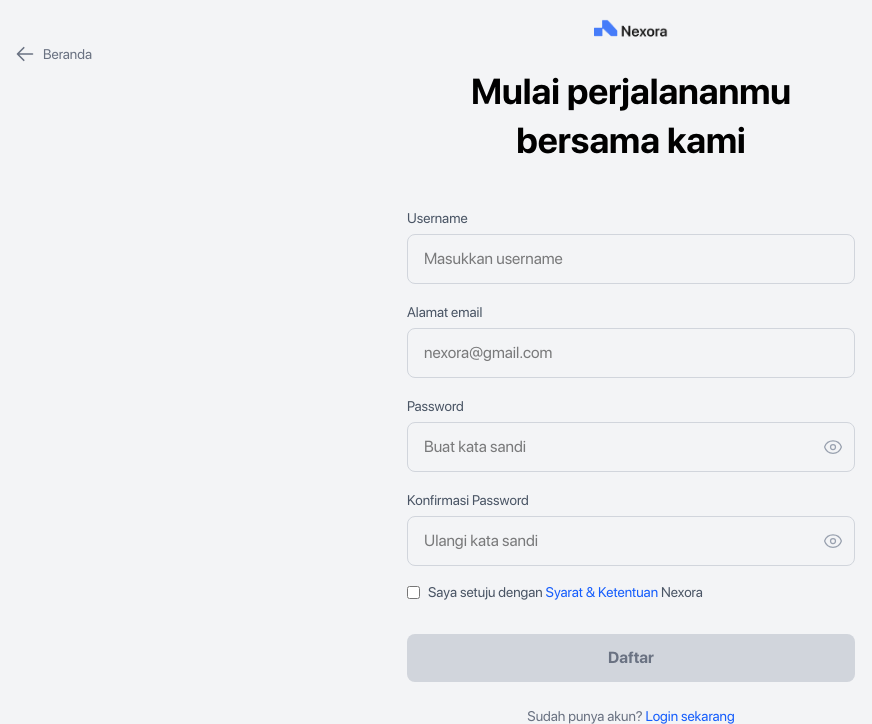
Test case: Register Component Error Handling › should display specific field error message from backend below the input
Isi data minimal agar bisa submit
Step 1. Type "user1" into the field with placeholder "Masukkan username" → x=631, y=258, box top-left (407, 234), bottom-right (855, 284)
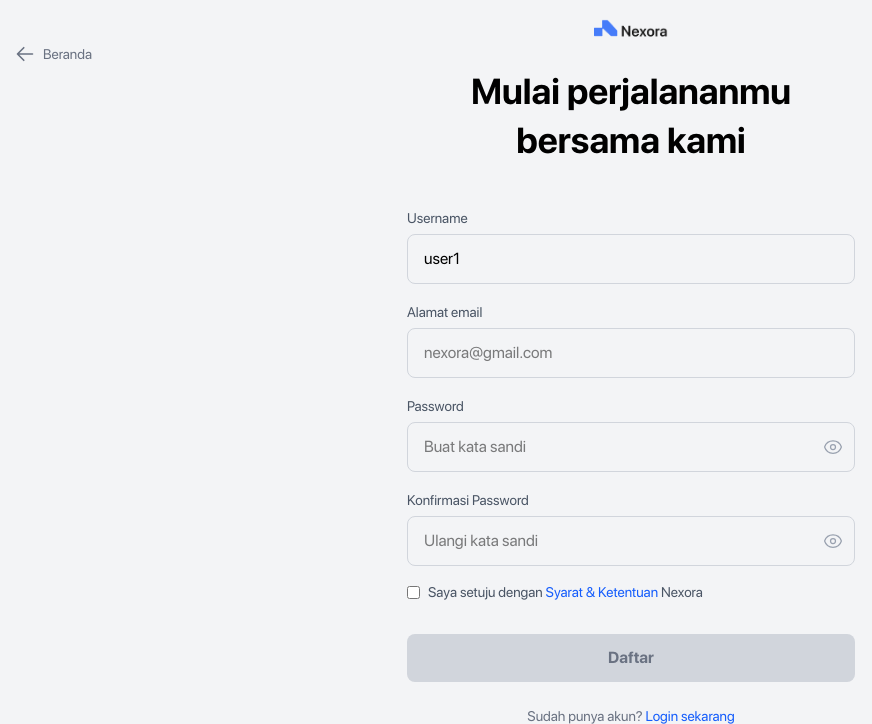
Step 2. Type "test@gmail.com" into the field with placeholder "nexora@gmail.com" → x=631, y=352, box top-left (407, 328), bottom-right (855, 378)
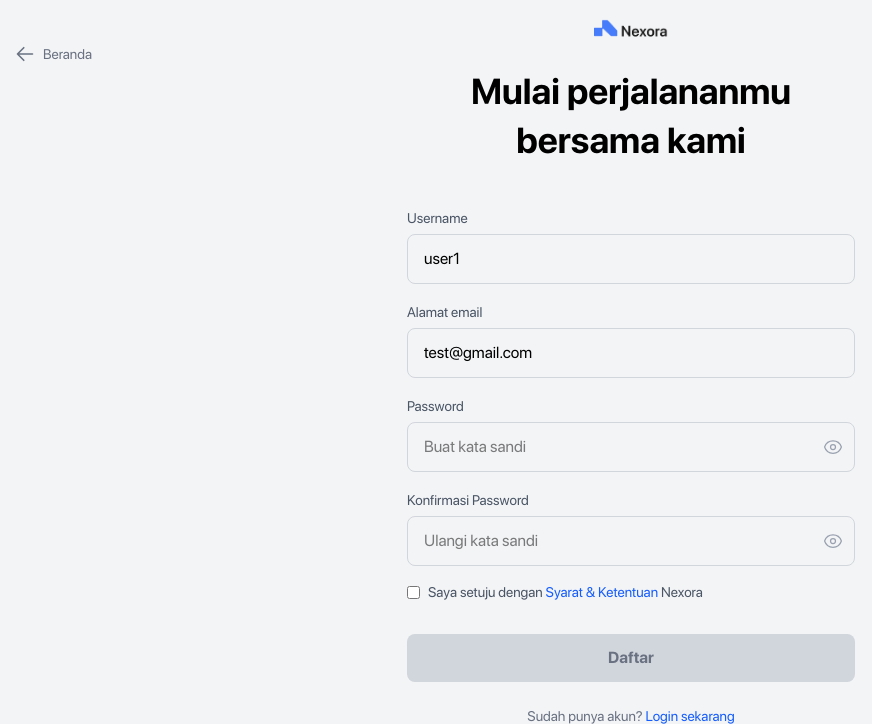
Step 3. Type "password123" into the password field with placeholder "Buat kata sandi" → x=631, y=446, box top-left (407, 422), bottom-right (855, 472)
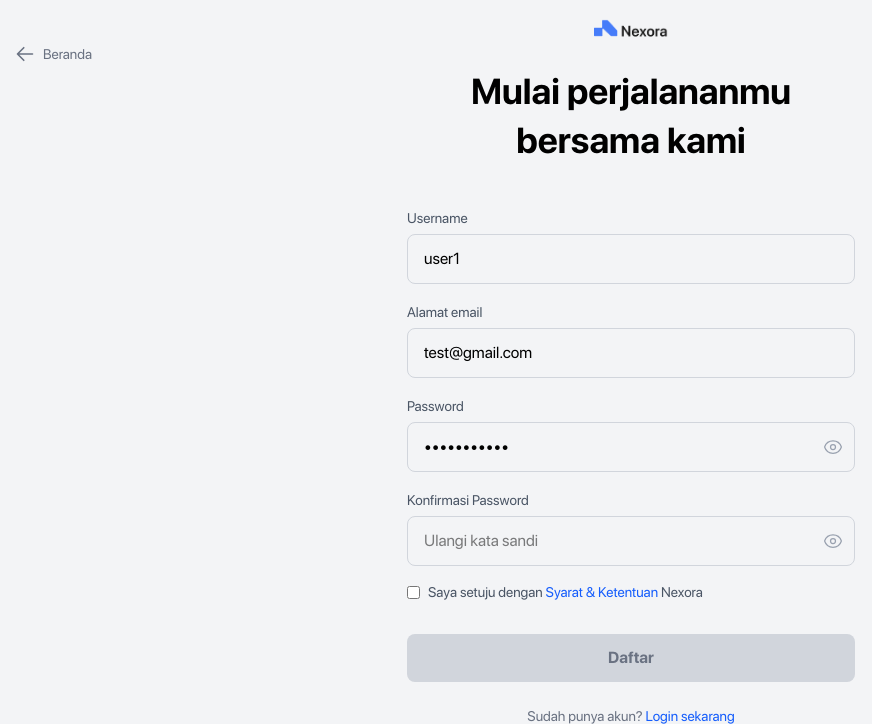
Step 4. Type "password123" into the password field with placeholder "Ulangi kata sandi" → x=631, y=540, box top-left (407, 516), bottom-right (855, 566)
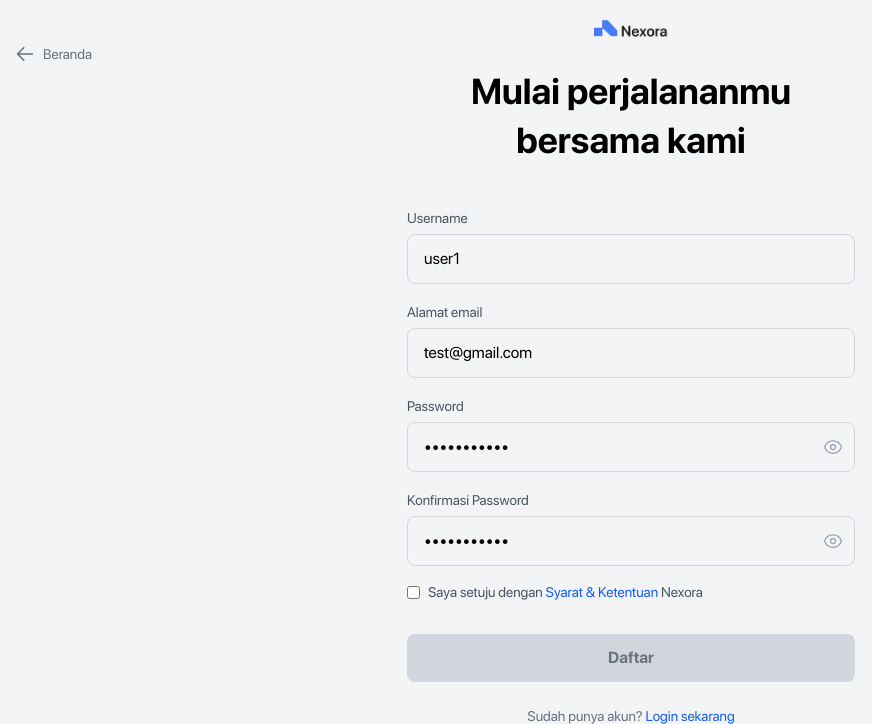
Step 5. Click the checkbox → x=414, y=592, box top-left (407, 586), bottom-right (420, 598)
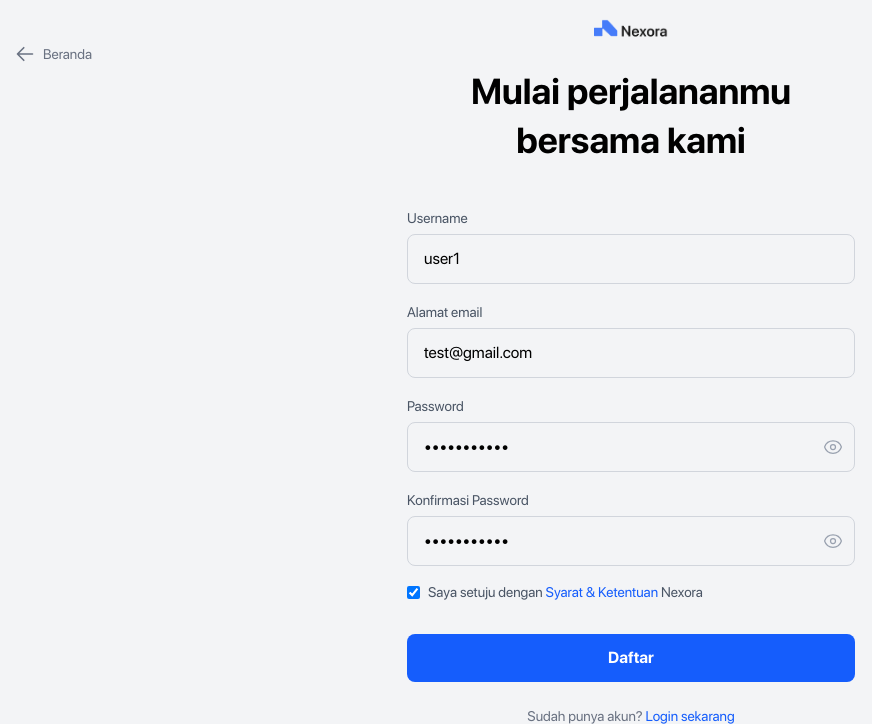
Step 6. Click the button "Daftar" → x=631, y=658, box top-left (407, 634), bottom-right (855, 682)
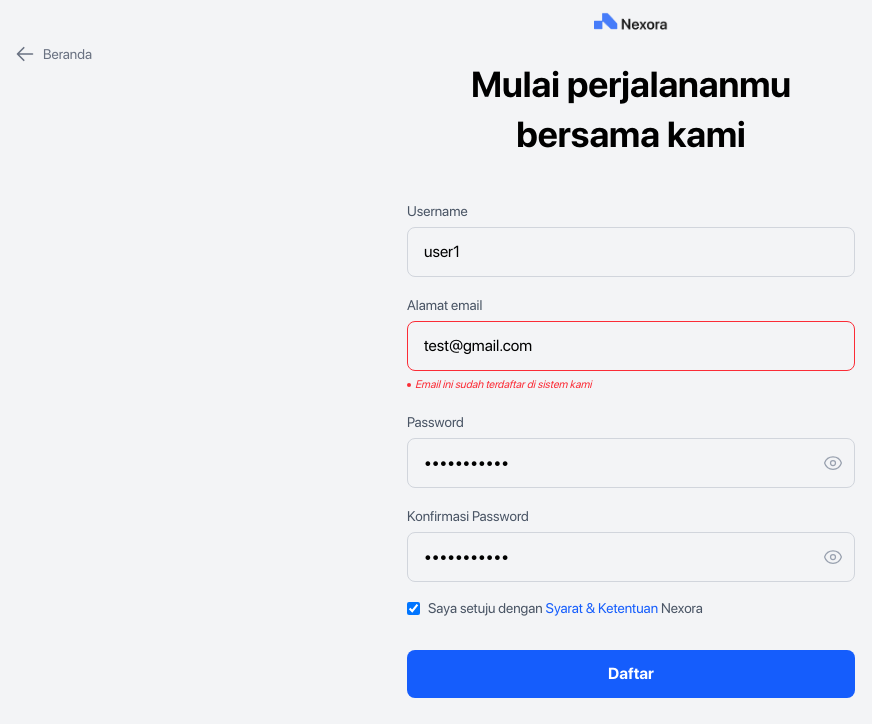
Now the text "Email ini sudah terdaftar di sistem kami" is shown, box top-left (407, 378), bottom-right (592, 391)
